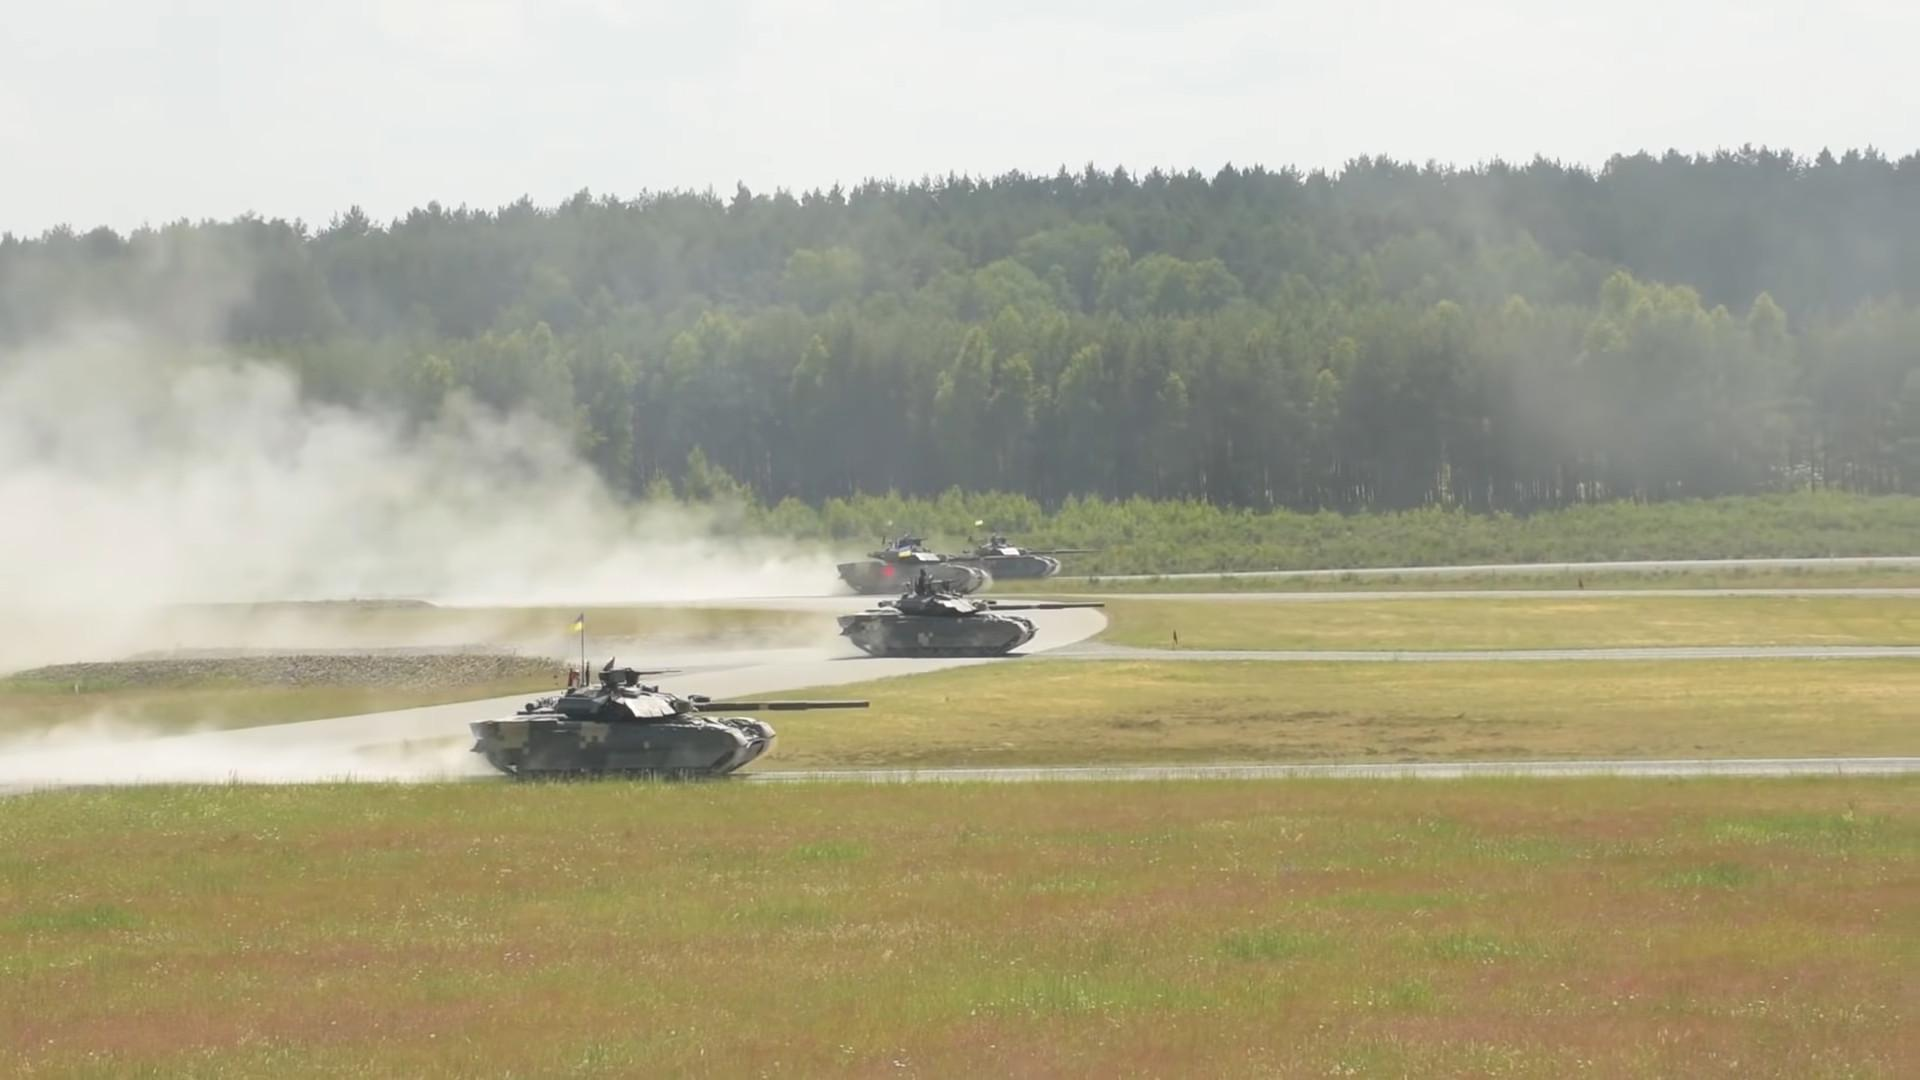tank: (467, 670, 868, 777), (837, 592, 1105, 655), (837, 537, 988, 595), (948, 538, 1101, 578)
